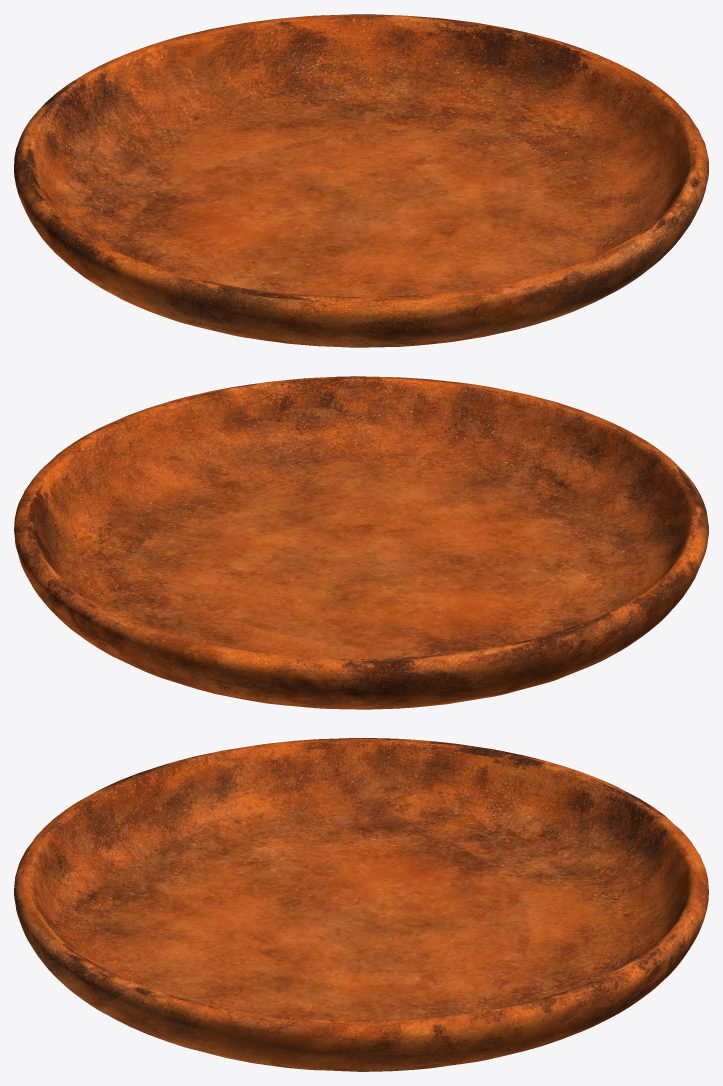
Rendered from earthen-platter.glb.
The picture shows the model from 3 angles, top to bottom: view 1: azimuth 30°, elevation 25°; view 2: azimuth 150°, elevation 25°; view 3: azimuth 270°, elevation 25°; orthographic projection.
Size of the model in its own units: 1.9 by 0.2254 by 1.9.
Materials: 1 (1 with a texture image).
